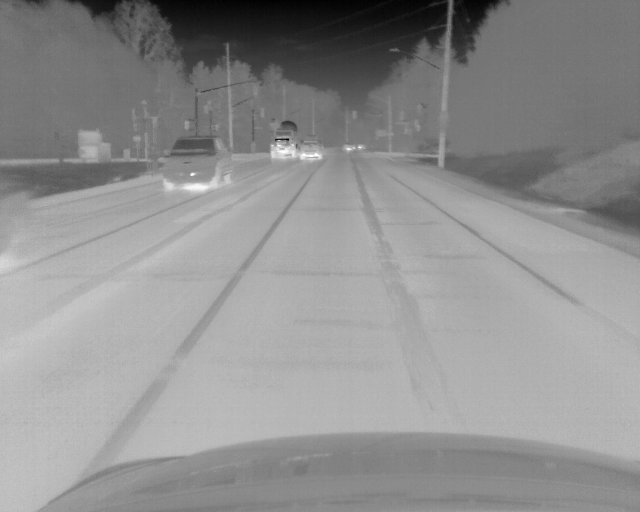car: (160, 135, 232, 191), (270, 120, 297, 161), (299, 136, 323, 162), (343, 144, 354, 154), (356, 143, 365, 151)
